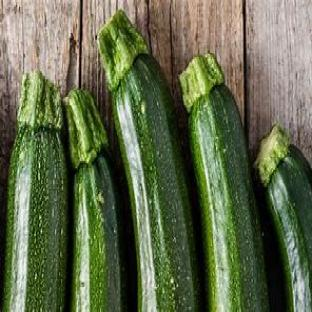Zucchini: (99, 11, 199, 311), (180, 54, 267, 311), (4, 72, 67, 311), (66, 91, 126, 311), (256, 125, 311, 311)
